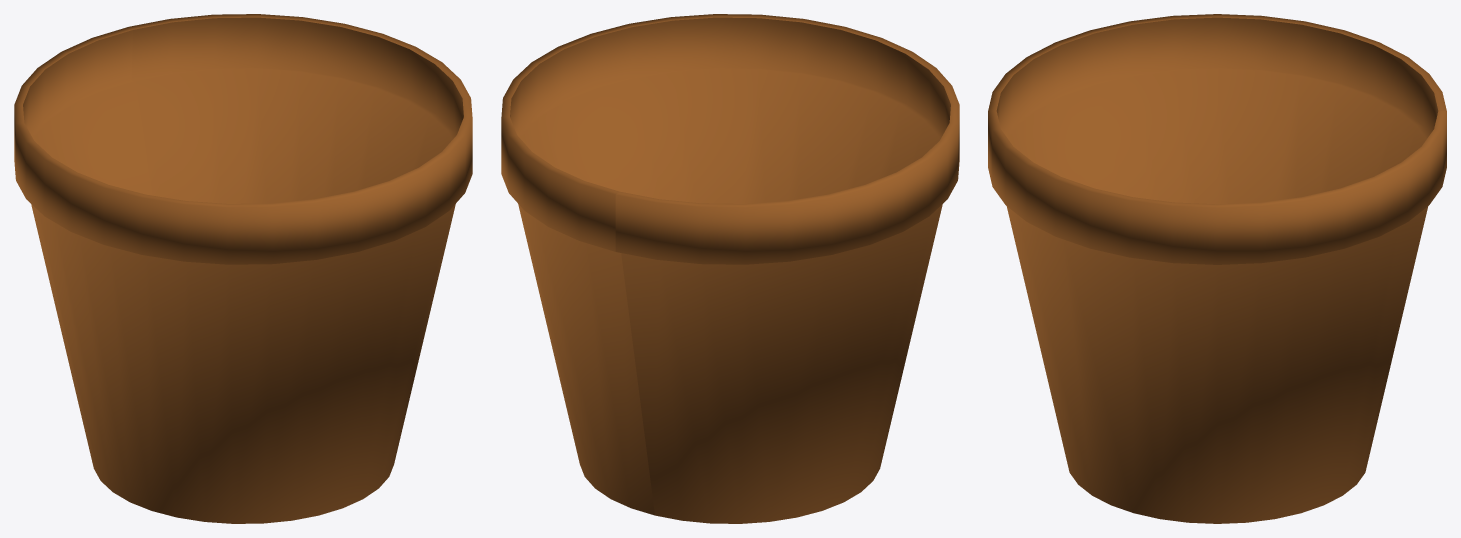
Rendered from Pot.glb.
The picture shows the model from 3 angles, left to right: view 1: azimuth 30°, elevation 25°; view 2: azimuth 150°, elevation 25°; view 3: azimuth 270°, elevation 25°; orthographic projection.
Visible parts, largest first — view 1: Cylinder; view 2: Cylinder; view 3: Cylinder.
Part boxes in pixels (x1=…): Cylinder: x1=14, y1=14, x2=472, y2=523; Cylinder: x1=501, y1=14, x2=959, y2=523; Cylinder: x1=988, y1=14, x2=1446, y2=523.
Bounding box in the file's own units: 0.2835 × 0.2382 × 0.2835.
